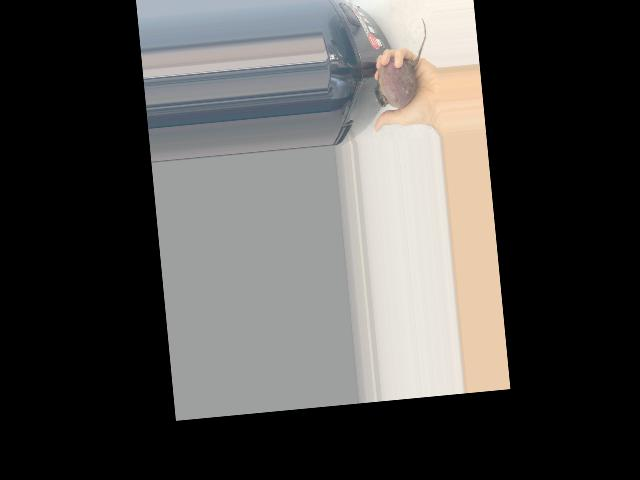beet: (368, 17, 433, 109)
